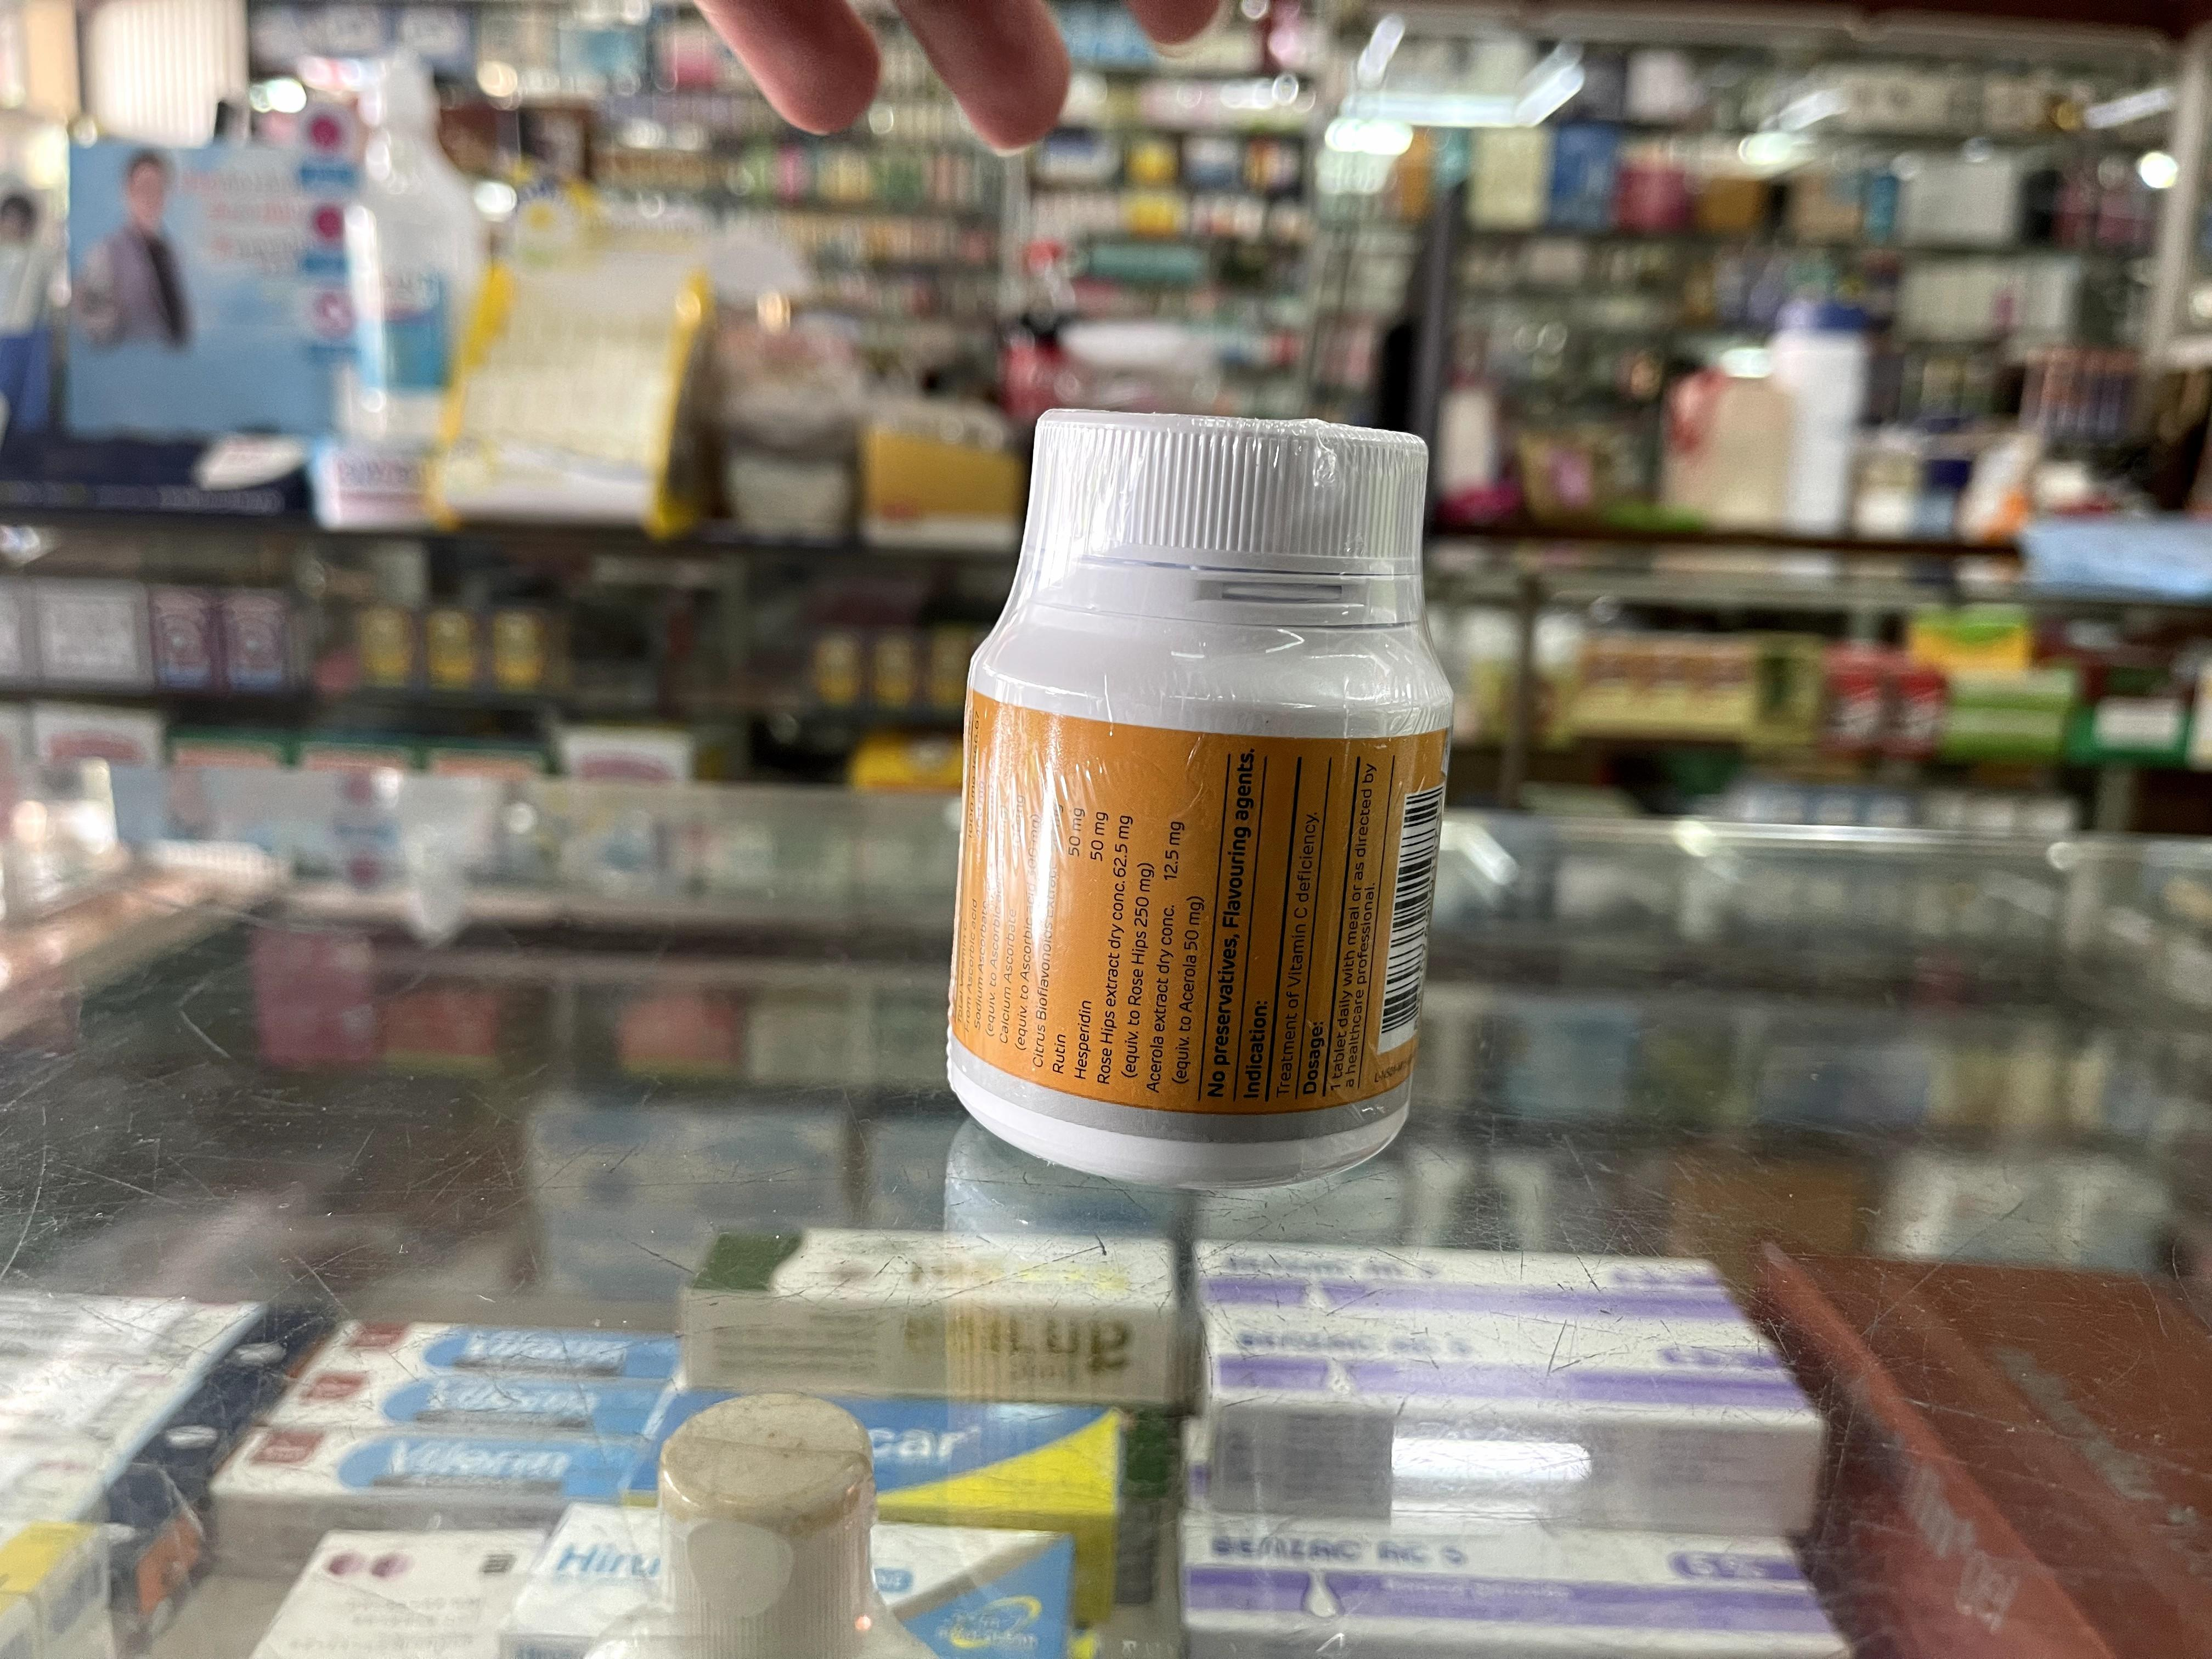NatC: (949, 403, 1456, 1195)
